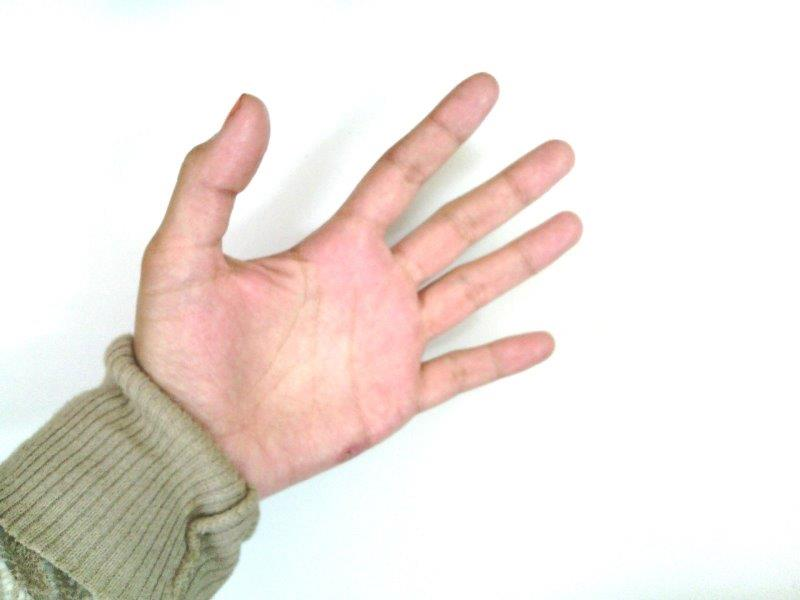hand: (133, 73, 583, 459)
